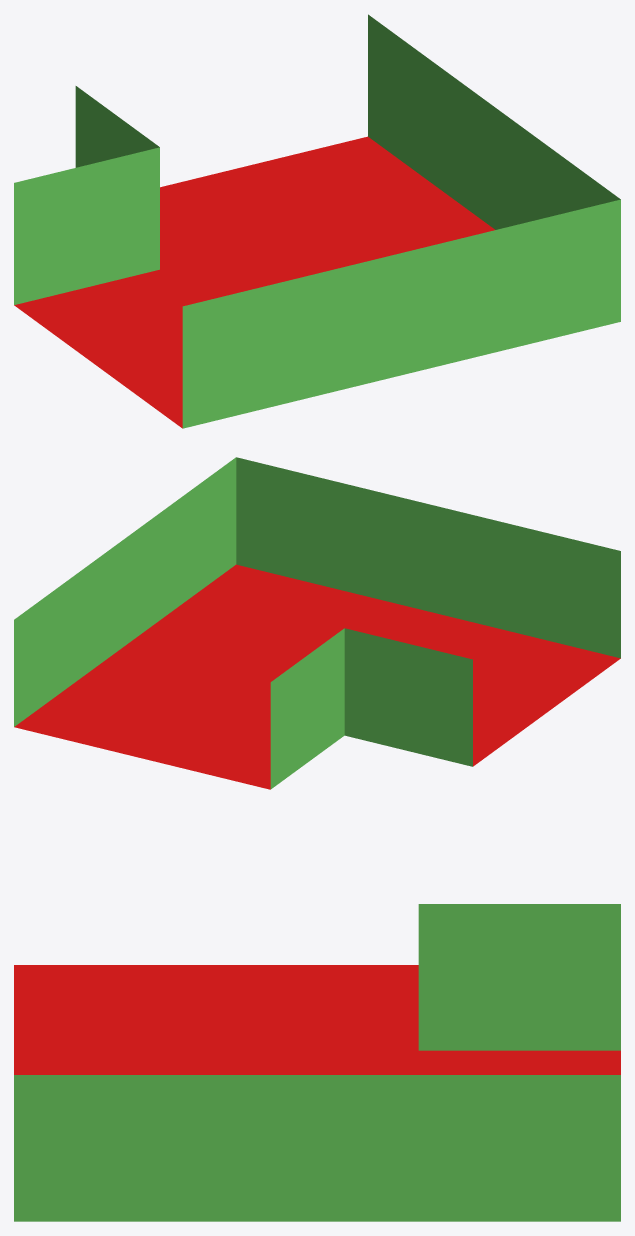
Rendered from collider_corner_0.fbx.
3 views of the same model, one above another, from view 1: azimuth 30°, elevation 25°; view 2: azimuth 150°, elevation 25°; view 3: azimuth 270°, elevation 25° (orthographic). The views are drawn at different scales.
Parts seen in each view (by area): view 1: col_corner; view 2: col_corner; view 3: col_corner.
Boxes of the visible parts, box(x1,y1,x2,y2) form: col_corner: box(14, 14, 620, 428); col_corner: box(14, 457, 620, 789); col_corner: box(14, 904, 620, 1221).
Size of the model in its own units: 1500 by 400 by 1500.
